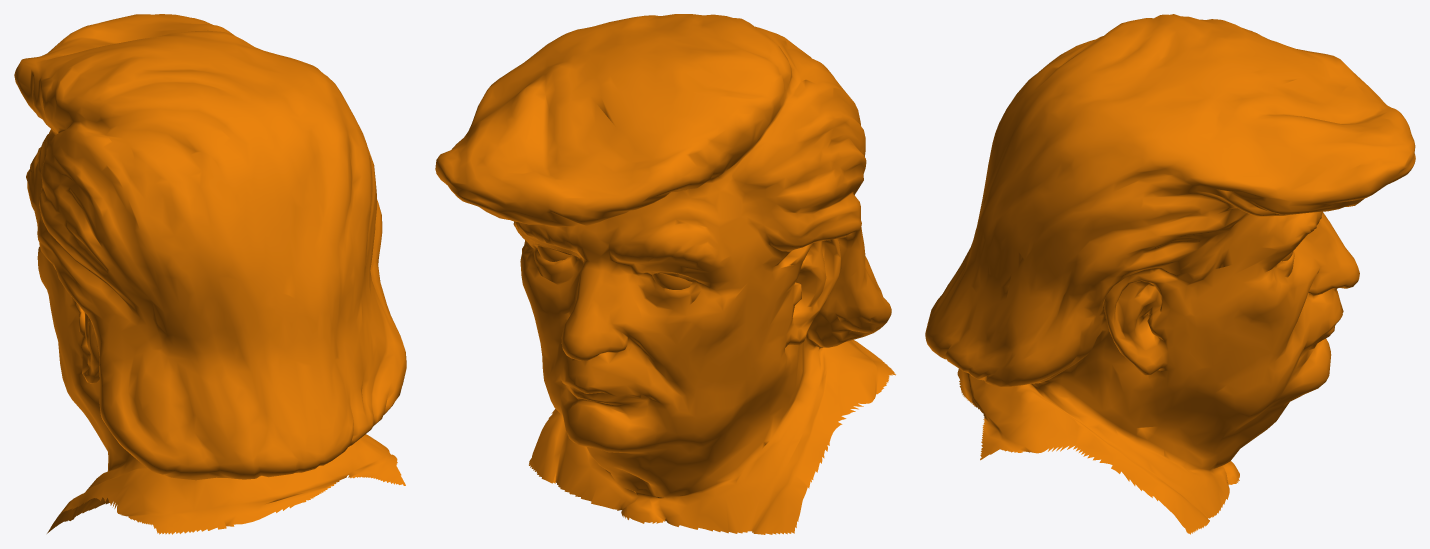
File: djt.glb
The picture shows the model from 3 angles, left to right: view 1: azimuth 30°, elevation 25°; view 2: azimuth 150°, elevation 25°; view 3: azimuth 270°, elevation 25°; orthographic projection. The views are drawn at different scales.
Visible parts, largest first — view 1: uploads_files_5567468_DT+PET; view 2: uploads_files_5567468_DT+PET; view 3: uploads_files_5567468_DT+PET.
Part boxes in pixels (left/top/right/bottom): uploads_files_5567468_DT+PET: left=14, top=14, right=406, bottom=534; uploads_files_5567468_DT+PET: left=435, top=14, right=895, bottom=534; uploads_files_5567468_DT+PET: left=925, top=14, right=1415, bottom=534.
Size of the model in its own units: 1.81 by 2.58 by 2.69.
